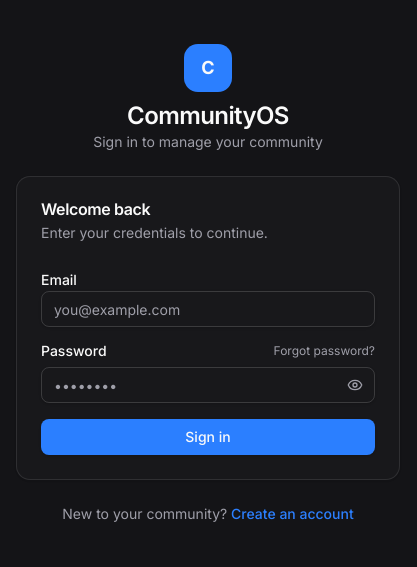
Scenario: LoginPage › shows validation errors when the form is submitted empty
Click the button "Sign in".
click(208, 437)  # box [41,419,375,455]
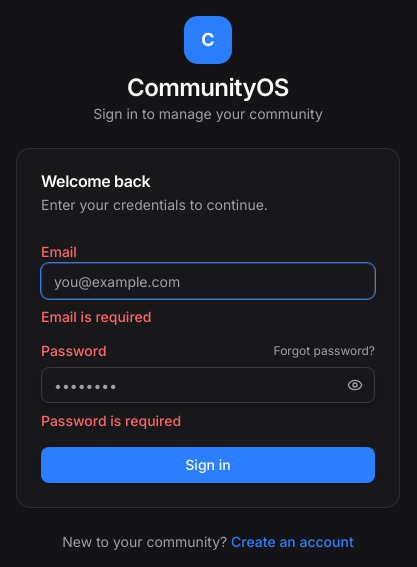
Check: the text "Email is required" is shown, box [41,308,151,325]
Check: the text "Password is required" is shown, box [41,412,181,429]
